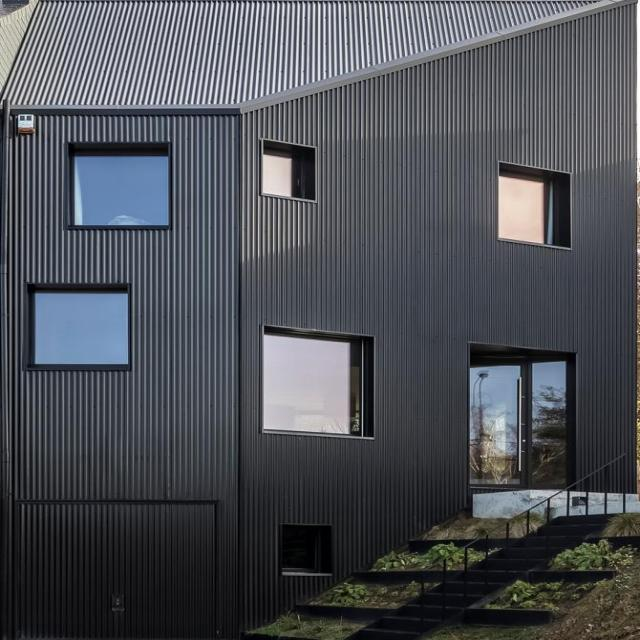door: (468, 358, 572, 491)
window: (262, 330, 367, 437), (71, 155, 168, 227), (33, 290, 127, 364), (494, 173, 557, 245), (262, 149, 303, 198), (281, 528, 317, 573)
